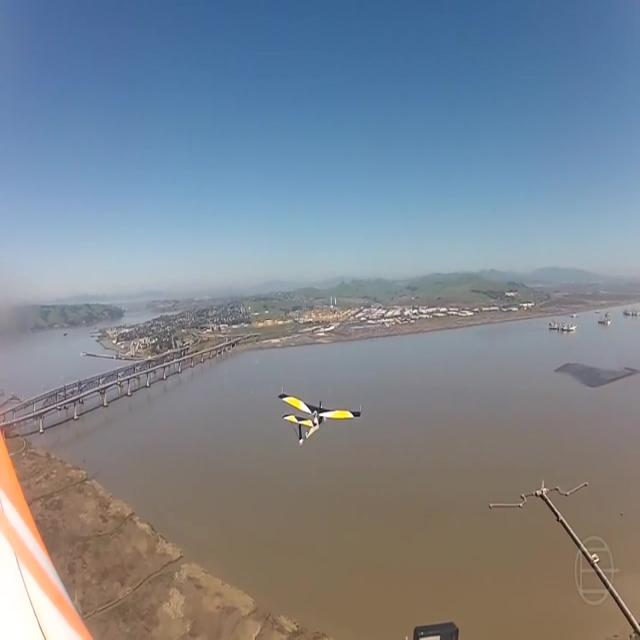iha: (310, 393, 330, 448)
